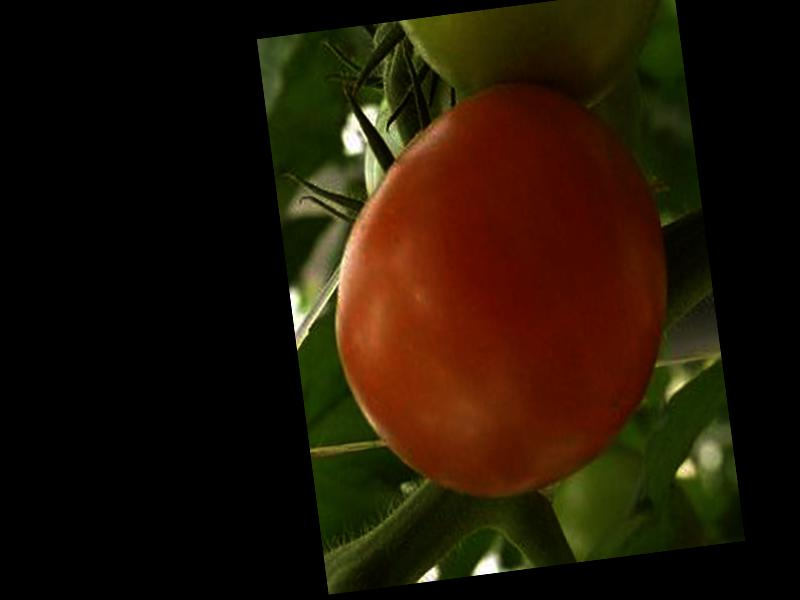Tomato: (305, 68, 693, 515)
